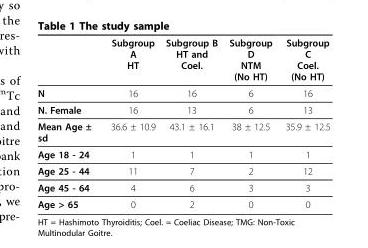table: (36, 36, 329, 209)
table column: (36, 36, 100, 209), (159, 36, 222, 209), (100, 36, 159, 209), (222, 36, 278, 209), (278, 36, 329, 209)
table column header: (36, 36, 329, 84)
table row: (36, 36, 329, 84), (36, 117, 329, 145), (36, 84, 329, 101), (36, 145, 329, 162), (36, 178, 329, 195), (36, 101, 329, 117), (36, 162, 329, 178), (36, 195, 329, 209)
